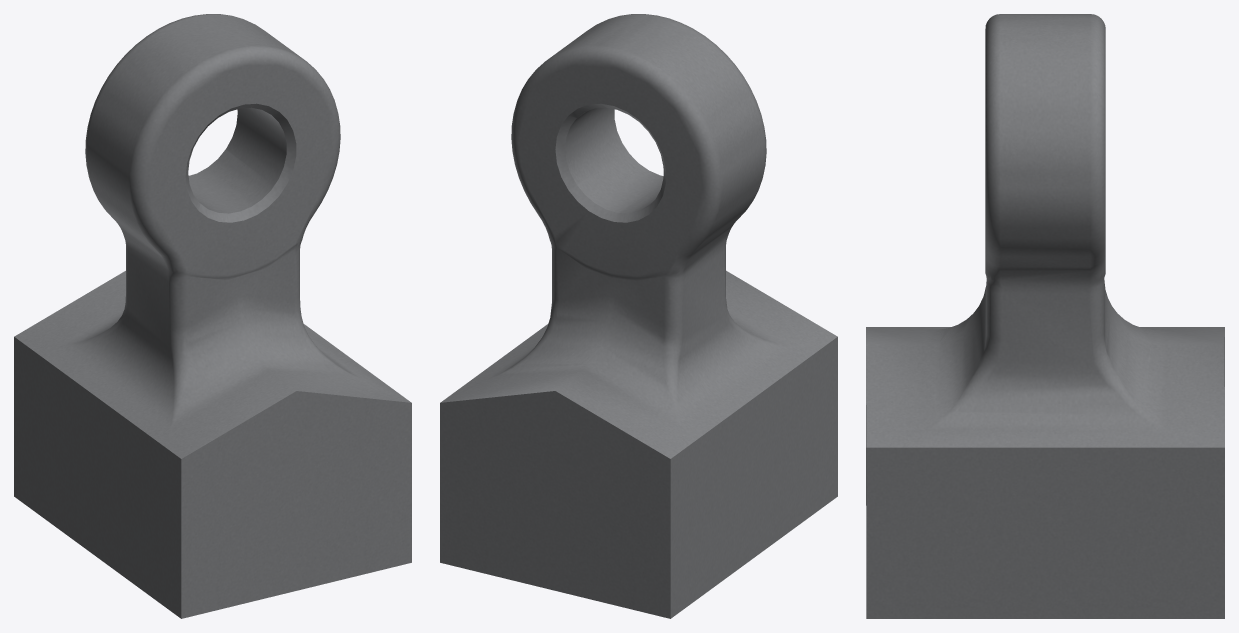
File: quarry-hammer.glb
3 renders of one model, left to right at view 1: azimuth 30°, elevation 25°; view 2: azimuth 150°, elevation 25°; view 3: azimuth 270°, elevation 25°, orthographic. The views are drawn at different scales.
Visible parts, largest first — view 1: metal; view 2: metal; view 3: metal.
Part boxes in pixels (<box>): metal: <box>14,14,411,618</box>; metal: <box>440,14,837,618</box>; metal: <box>866,14,1224,618</box>.
Bounding box in the file's own units: 0.187 × 0.3849 × 0.235.
Materials: 1 (1 with a texture image).
